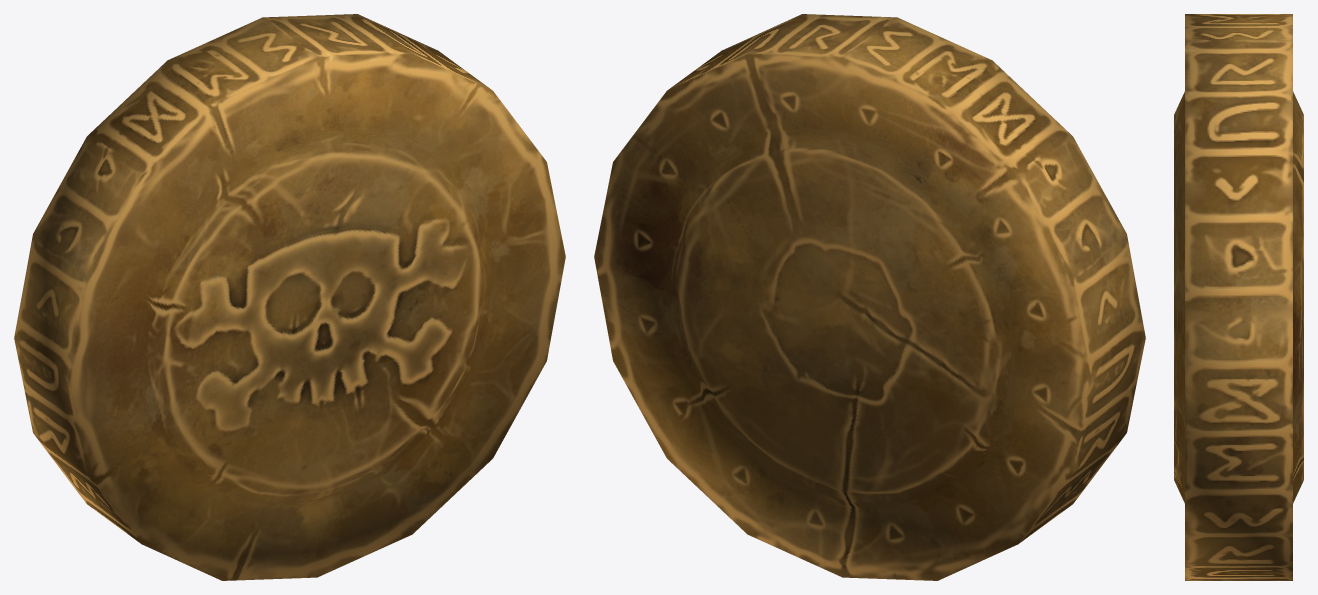
3 views of the same model, side by side, from view 1: azimuth 30°, elevation 25°; view 2: azimuth 150°, elevation 25°; view 3: azimuth 270°, elevation 25° (orthographic).
Parts seen in each view (by area): view 1: TB_coin_LP_0; view 2: TB_coin_LP_0; view 3: TB_coin_LP_0.
Part boxes in pixels (x1,y1,x2,y2): TB_coin_LP_0: (14,14,565,580); TB_coin_LP_0: (594,14,1145,580); TB_coin_LP_0: (1174,14,1303,580).
Bounding box in the file's own units: 0.1009 × 0.1009 × 0.0231.
1 material, 1 textured.
